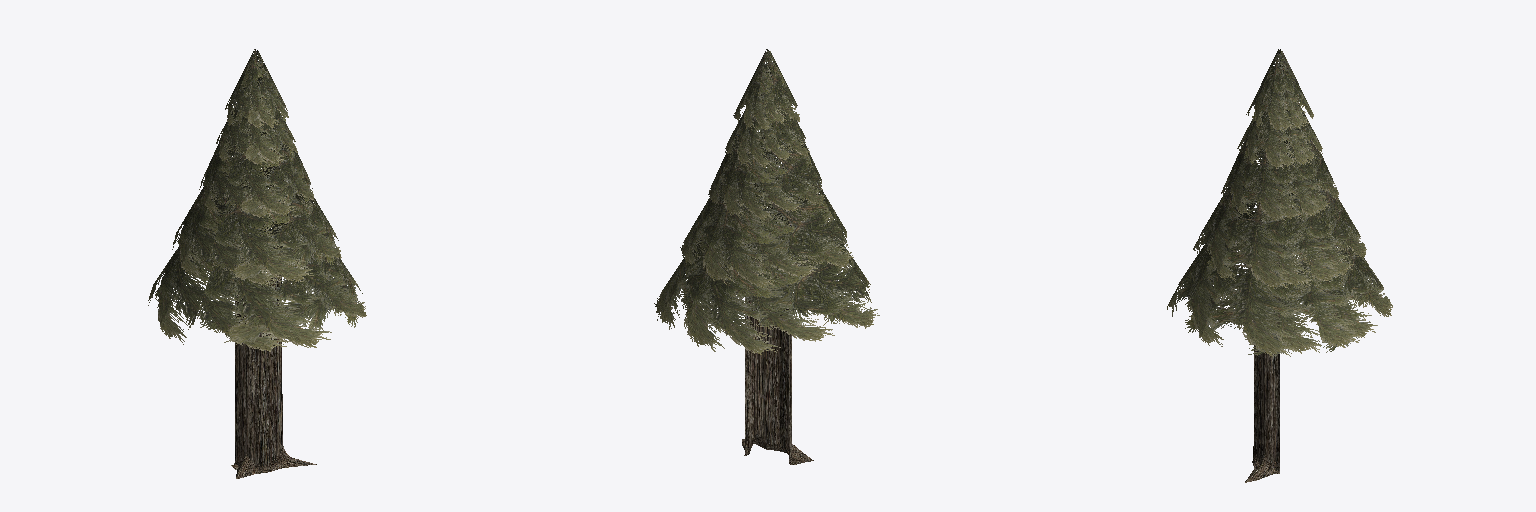
The picture shows the model from 3 angles: view 1: azimuth 30°, elevation 25°; view 2: azimuth 150°, elevation 25°; view 3: azimuth 270°, elevation 25°; orthographic projection.
Visible parts, largest first — view 1: Tree1; view 2: Tree1; view 3: Tree1.
Boxes of the visible parts, box(x1,y1,x2,y2) form: Tree1: box(148, 49, 366, 478); Tree1: box(654, 49, 879, 464); Tree1: box(1167, 49, 1392, 482).
Bounding box in the file's own units: 9.15 × 18.12 × 9.15.
1 materials, 1 textured.